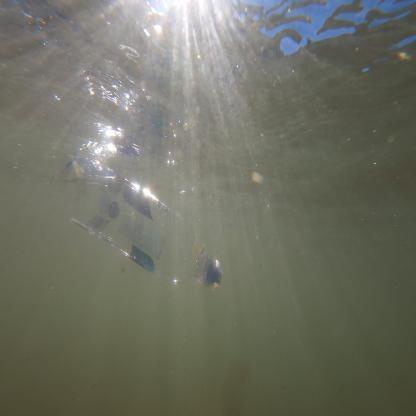Rác: (57, 140, 242, 310)
